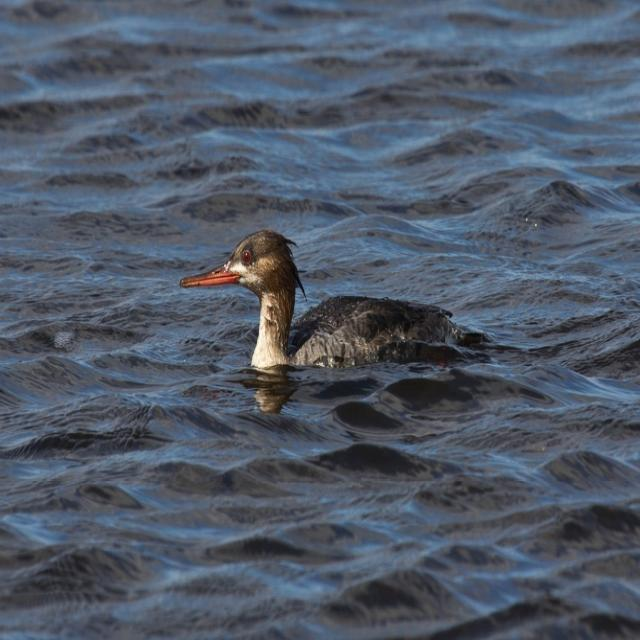bird: (186, 234, 492, 372)
